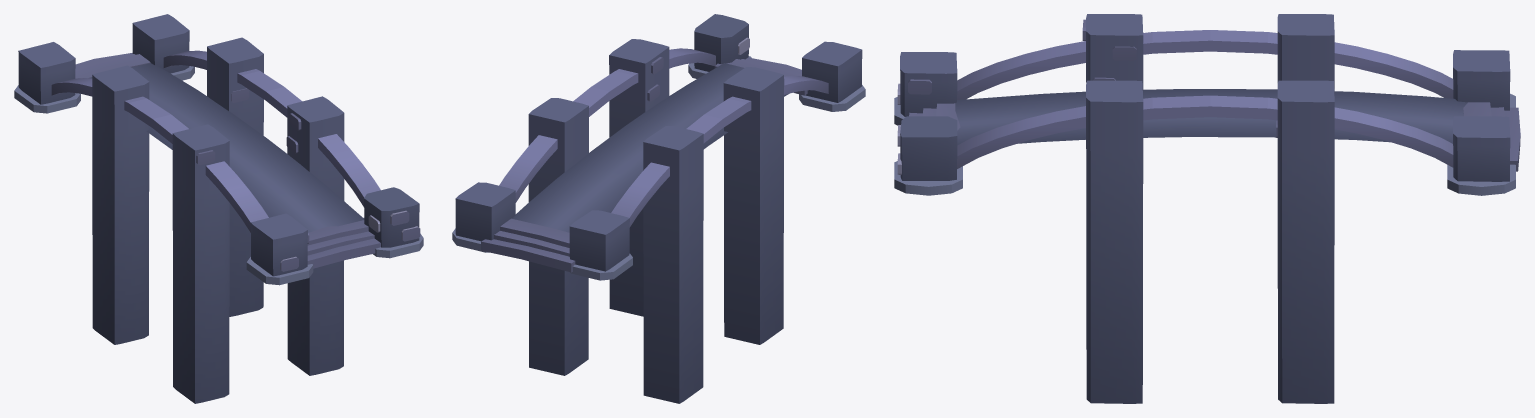
File: Bridge.fbx
3 views of the same model, side by side, from view 1: azimuth 30°, elevation 25°; view 2: azimuth 150°, elevation 25°; view 3: azimuth 270°, elevation 25° (orthographic). The views are drawn at different scales.
Visible parts, largest first — view 1: Plane.007; view 2: Plane.007; view 3: Plane.007.
Part boxes in pixels (x1=…): Plane.007: x1=14, y1=14, x2=423, y2=403; Plane.007: x1=452, y1=14, x2=865, y2=403; Plane.007: x1=894, y1=14, x2=1520, y2=403.
Size of the model in its own units: 184 by 270 by 508.
